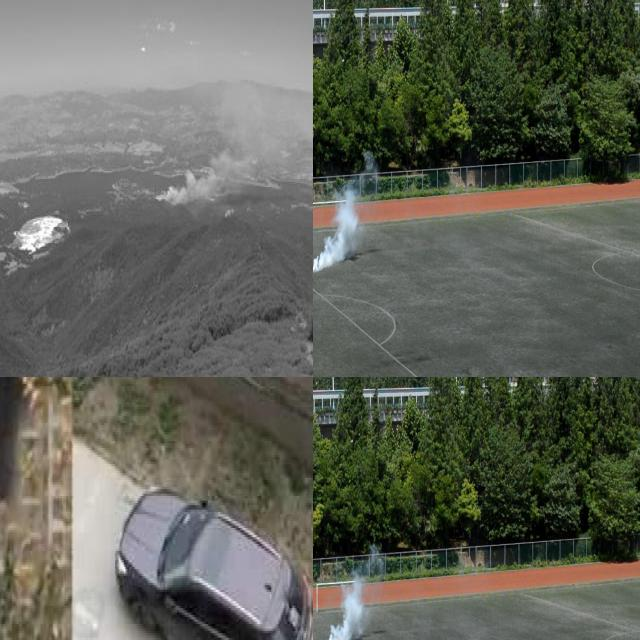smoke: (157, 72, 313, 206), (316, 549, 386, 640), (313, 181, 374, 277)
